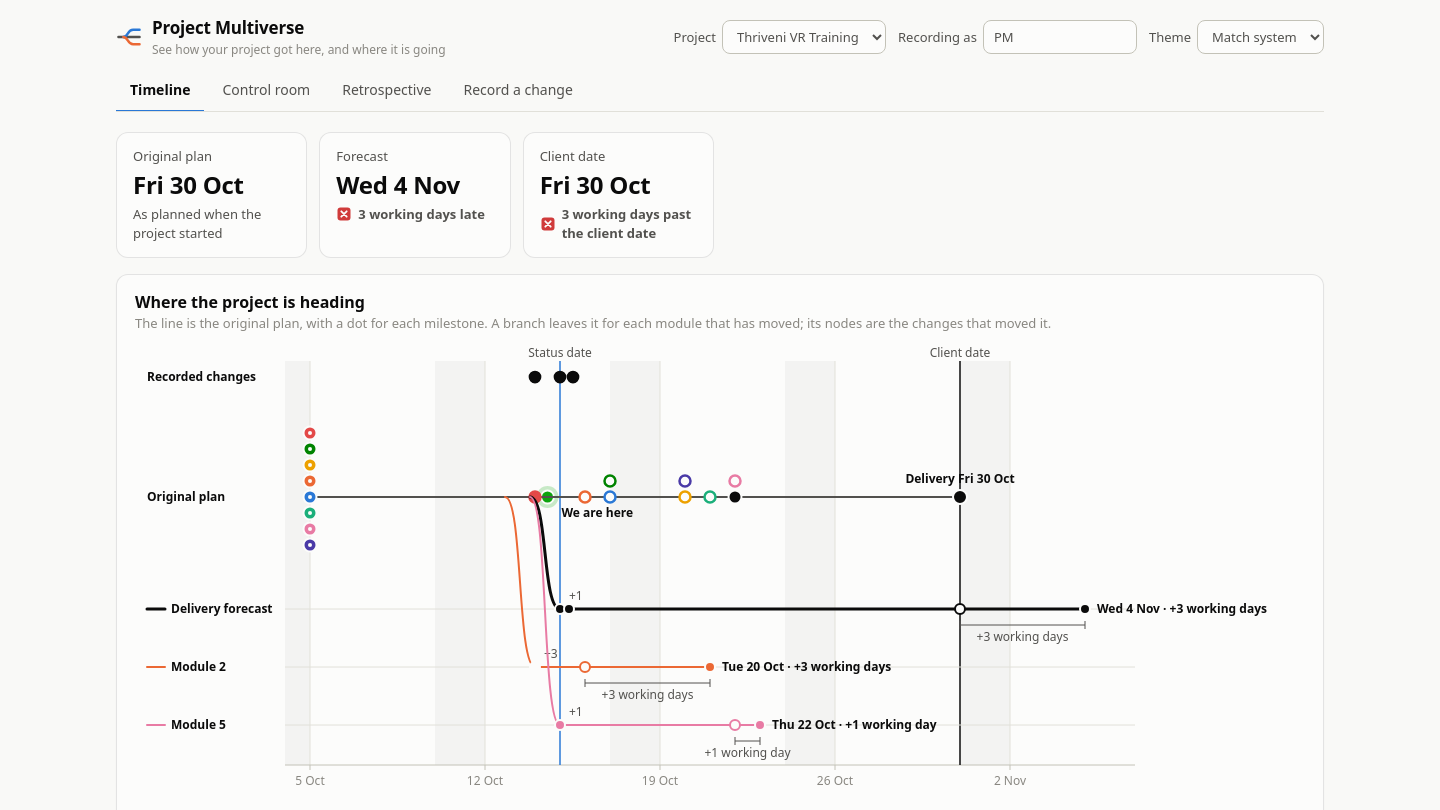
Test case: the shell › switches tabs and keeps the address in step
The image size is (1440, 810).
Click the tab "Control room" at x=266, y=91, box x1=208 y1=70 x2=324 y2=112
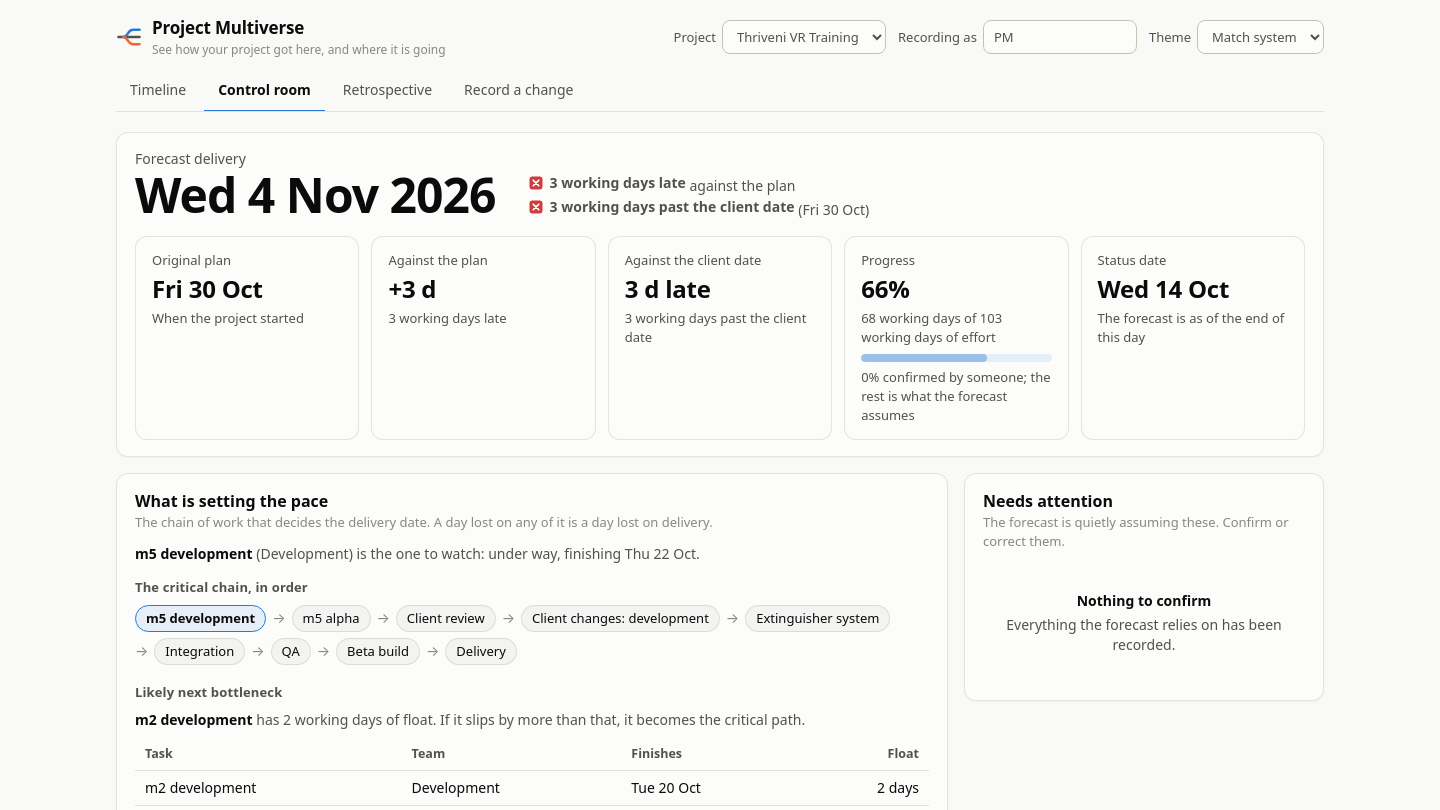
Expected: the heading "What is setting the pace" is shown, x1=135 y1=490 x2=328 y2=512
